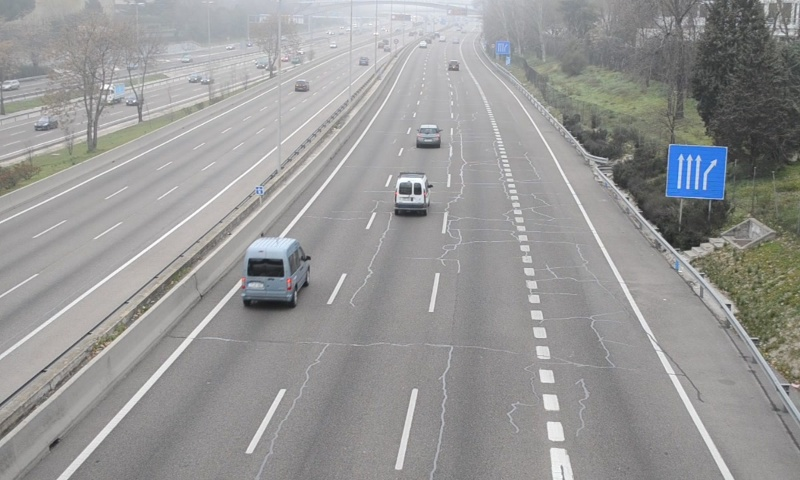car: (415, 124, 442, 149)
van: (239, 238, 308, 303), (395, 175, 429, 216)
